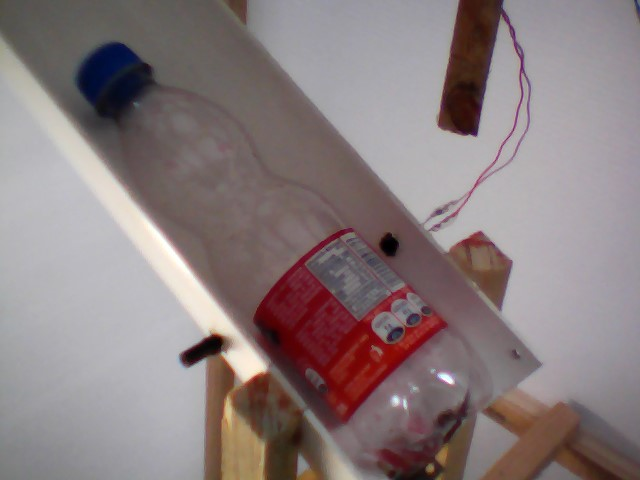plastico: (64, 37, 496, 480)
